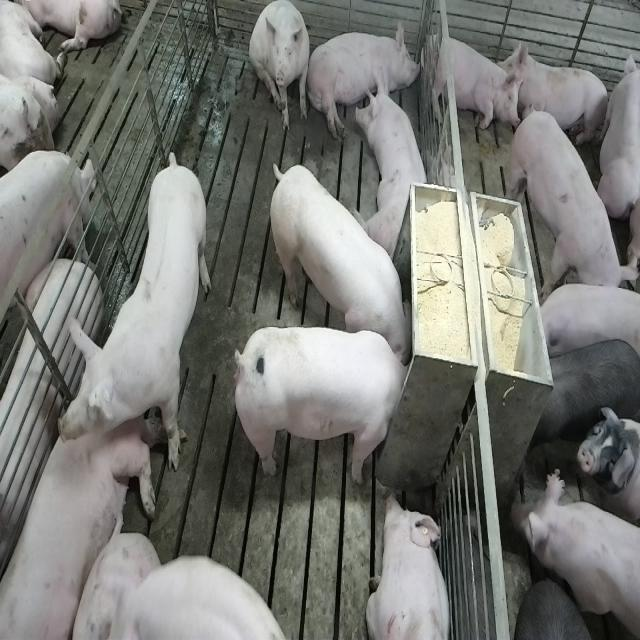Feeding: (265, 160, 411, 361), (229, 323, 410, 484)
Lateral_lying: (306, 20, 423, 140)
Sitting: (250, 2, 312, 134)
Standing: (58, 148, 210, 471), (508, 103, 632, 305), (512, 466, 638, 640), (0, 154, 94, 348), (530, 336, 639, 456), (532, 281, 640, 364)
Sternal_lying: (0, 370, 156, 640), (356, 69, 433, 259), (365, 490, 453, 640), (505, 40, 611, 152), (426, 31, 517, 134)
